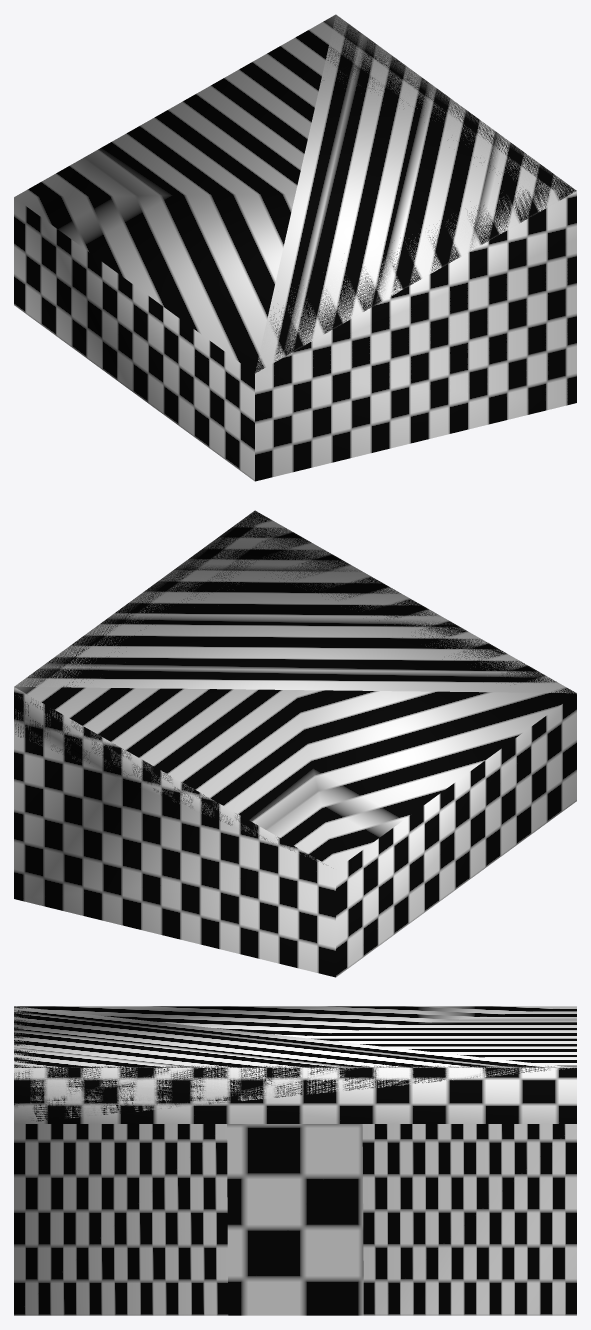
File: stbuho31.dae
3 renders of one model, top to bottom at view 1: azimuth 30°, elevation 25°; view 2: azimuth 150°, elevation 25°; view 3: azimuth 270°, elevation 25°, orthographic. The views are drawn at different scales.
Parts seen in each view (by area): view 1: barn, crown; view 2: barn, crown; view 3: barn, crown.
Boxes of the visible parts, box(x1,y1,x2,y2) form: barn: box(14, 14, 576, 481); crown: box(255, 15, 576, 402); barn: box(14, 510, 576, 977); crown: box(15, 511, 576, 864); barn: box(14, 1006, 576, 1315); crown: box(14, 1006, 572, 1123).
Bounding box in the file's own units: 3.41 × 4.43 × 2.15.
Materials: 1 (1 with a texture image).
